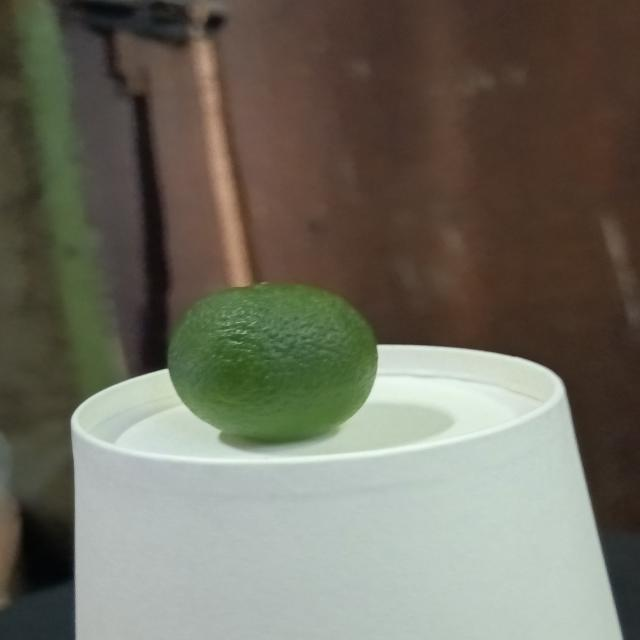heathy: (162, 282, 384, 447)
